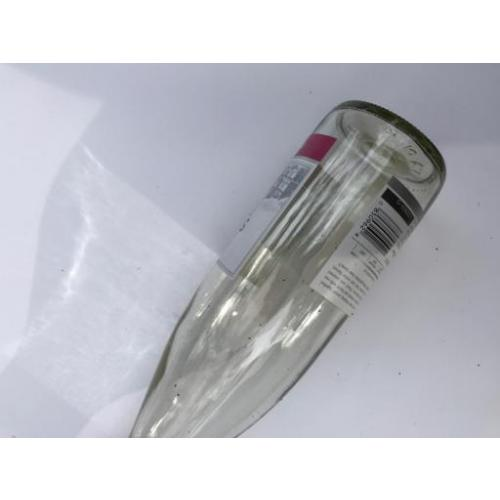glass: (135, 99, 447, 435)
